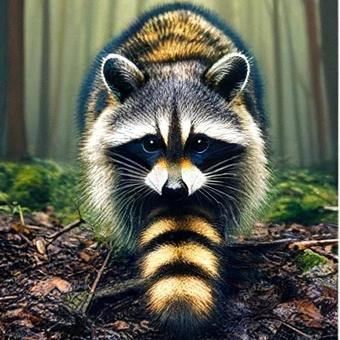raccoon: (67, 0, 283, 340)
